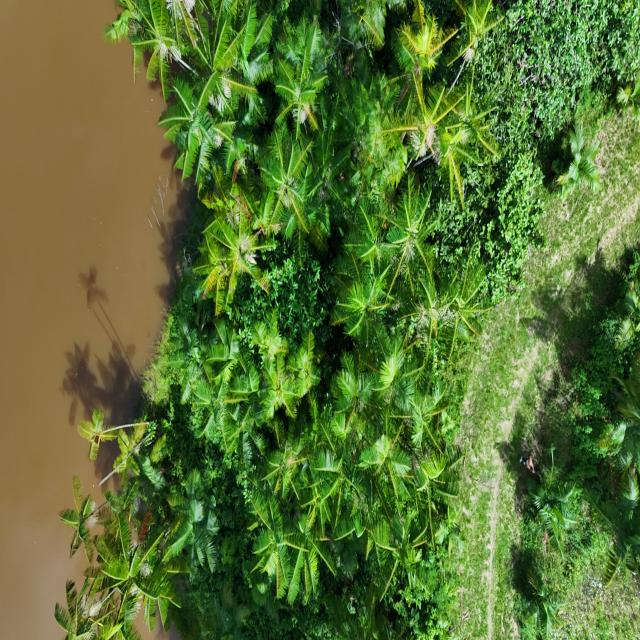vegetation: (54, 1, 637, 638)
